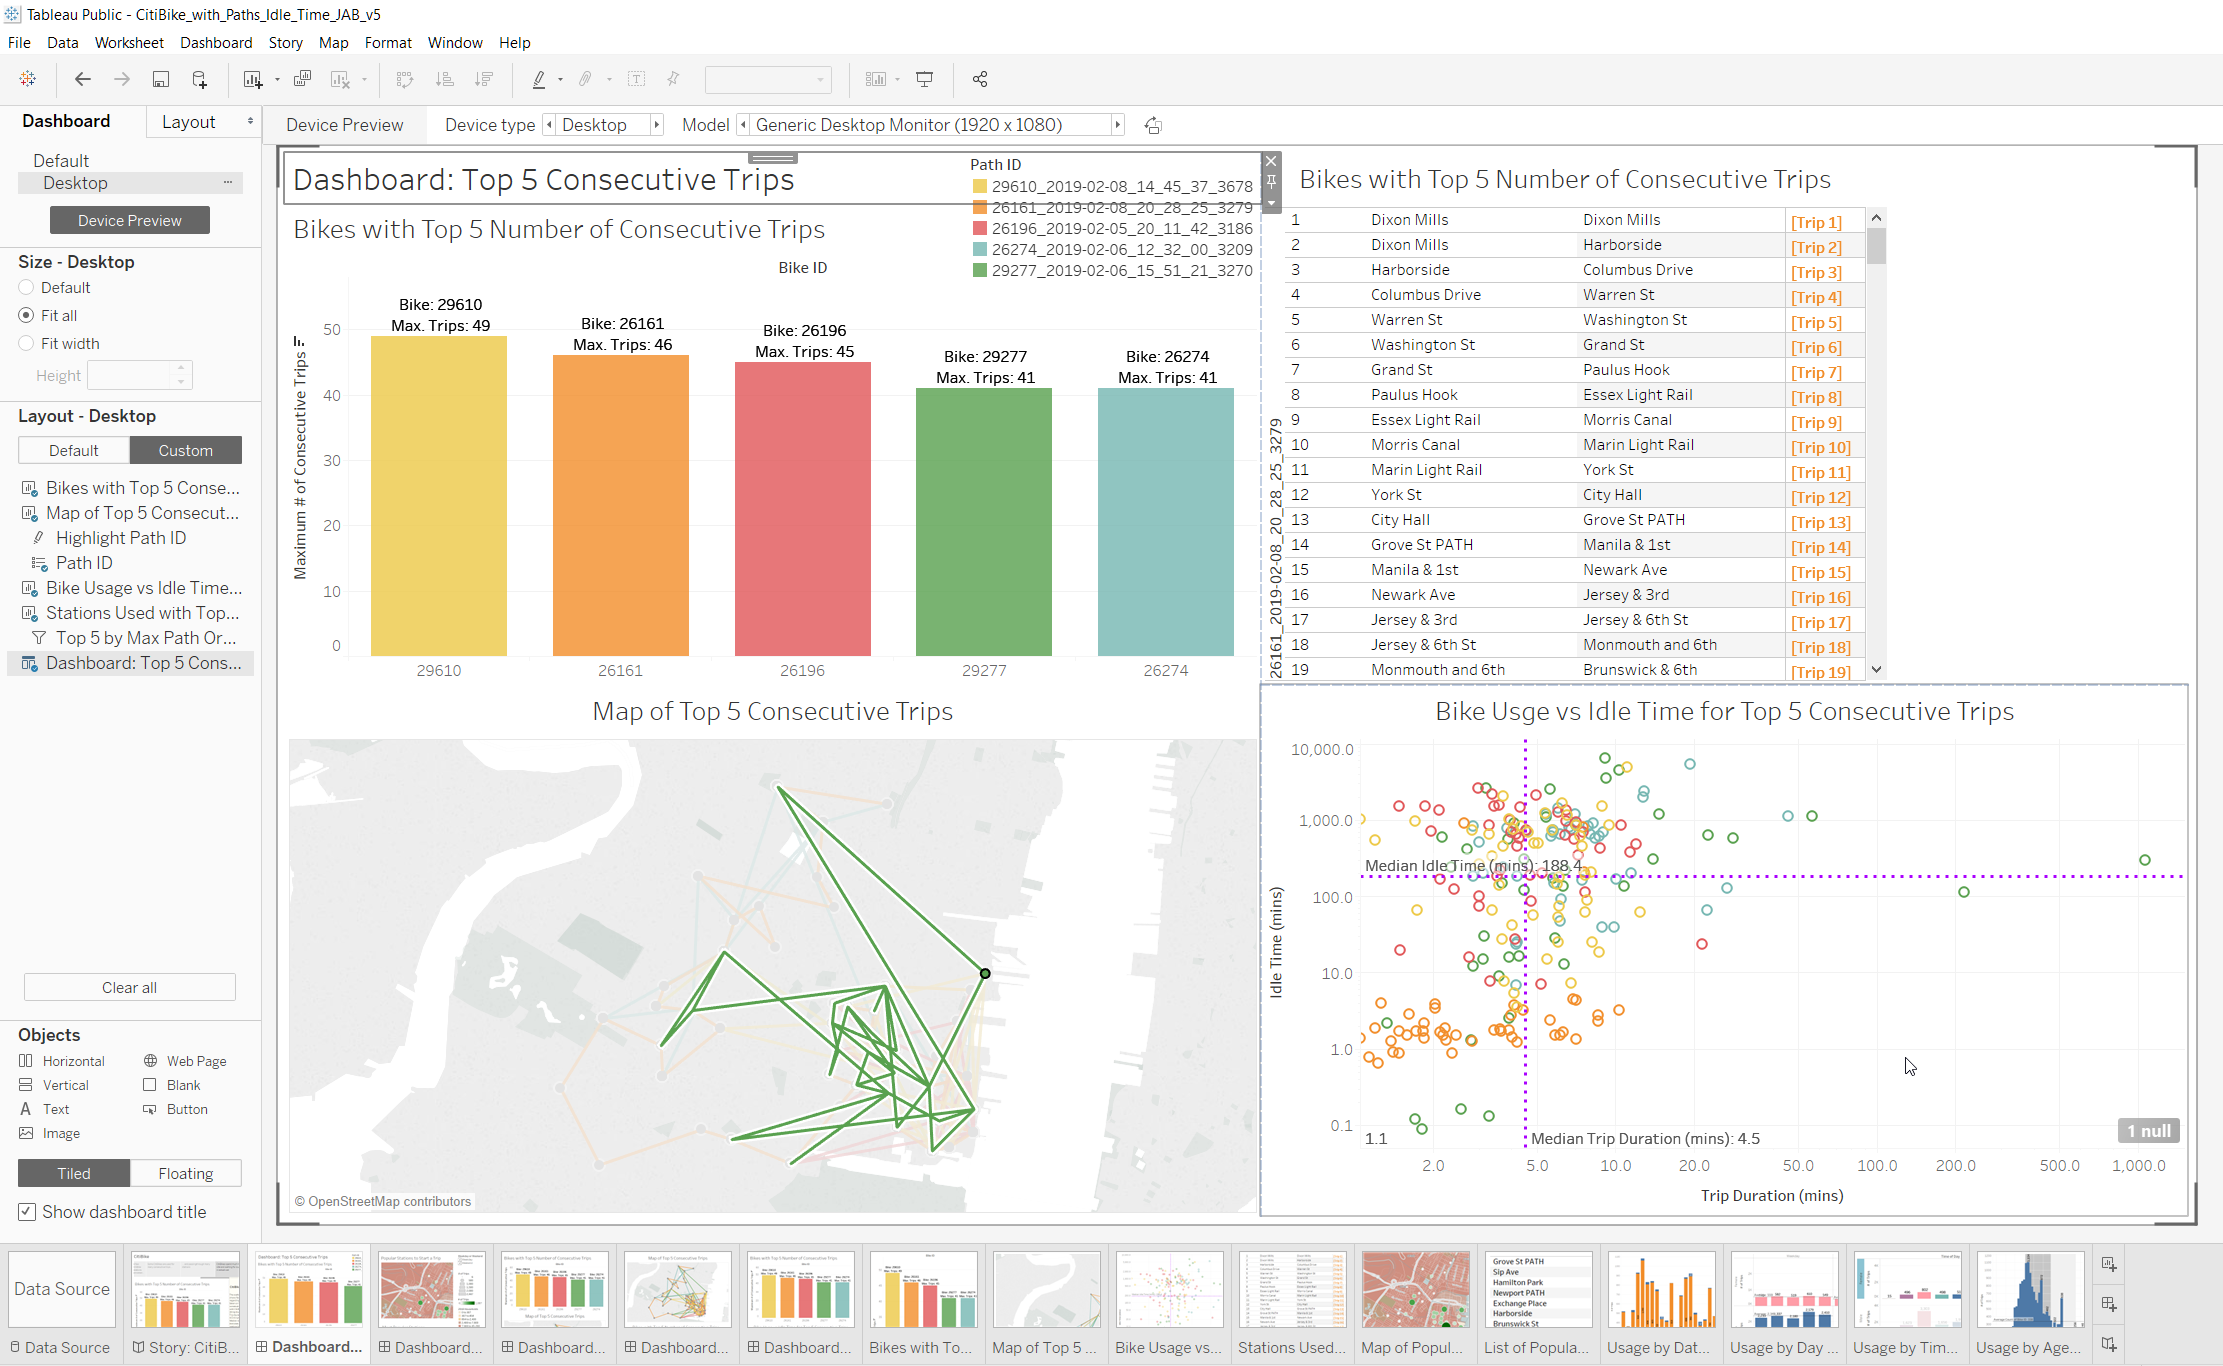

What the dashboard file says about the page in this screenshot:
{"tool":"tableau","page":{"name":"Dashboard: Top 5 Consecutive Trips","canvas":[650,860],"ordinal":1},"visuals":[{"type":"title","box":[8,8,317,92]},{"type":"worksheet","title":"Stations Used with Top 5 Trips","mark":"Automatic","rows":["Path ID","Path Order","Start Station Name","End Station Name"],"box":[325,8,317,422]},{"type":"worksheet","title":"Bikes with Top 5 Consecutive Trips","mark":"Automatic","rows":["Path Order"],"cols":["Bike ID"],"box":[8,100,211,376]},{"type":"filter","title":"Stations Used with Top 5 Trips","param":"[federated.0tozb7y0x7rp2r1ej4jrb1wac5eh].[Top 5 by Max Path Order usign Path ID]","box":[219,100,106,174]},{"type":"legend","title":"Map of Top 5 Consecutive Trips","param":"[federated.0tozb7y0x7rp2r1ej4jrb1wac5eh].[none:Path ID:nk]","box":[219,274,106,135]},{"type":"highlighter","title":"Map of Top 5 Consecutive Trips","param":"[federated.0tozb7y0x7rp2r1ej4jrb1wac5eh].[none:Path ID:nk]","box":[219,409,106,56]},{"type":"worksheet","title":"Bike Usage vs Idle Time Top 5","mark":"Automatic","rows":["Idle Time (mins)"],"cols":["Trip Duration (mins)"],"box":[325,430,317,422]},{"type":"worksheet","title":"Map of Top 5 Consecutive Trips","mark":"Line","rows":["Start Station Latitude"],"cols":["Start Station Longitude","Start Station Longitude"],"box":[8,475.9,317,376.1]}]}

Visuals, with their boxes on the page's 650x860 design canvas (x1, y1, x2, y2). These are canvas units, not pixel positions in the 2223x1366 screenshot, which may show the page scaled, cropped or inside an application window:
title: BBox(8, 8, 325, 100)
"Stations Used with Top 5 Trips" worksheet: BBox(325, 8, 642, 430)
"Bikes with Top 5 Consecutive Trips" worksheet: BBox(8, 100, 219, 476)
"Stations Used with Top 5 Trips" filter: BBox(219, 100, 325, 274)
"Map of Top 5 Consecutive Trips" legend: BBox(219, 274, 325, 409)
"Map of Top 5 Consecutive Trips" highlighter: BBox(219, 409, 325, 465)
"Bike Usage vs Idle Time Top 5" worksheet: BBox(325, 430, 642, 852)
"Map of Top 5 Consecutive Trips" worksheet (Line marks): BBox(8, 476, 325, 852)
